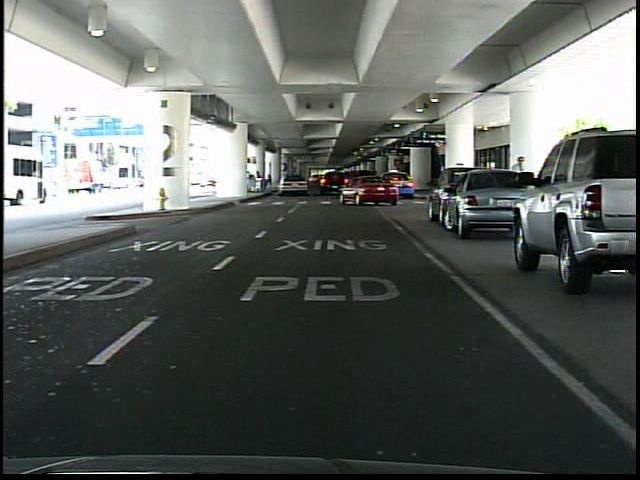person: (505, 152, 530, 236)
